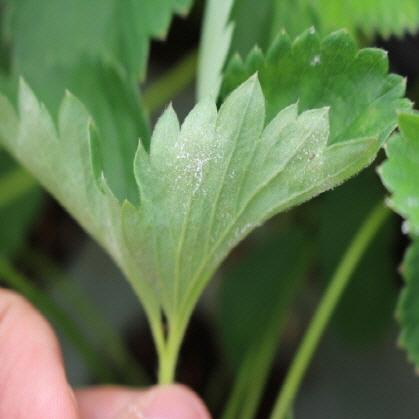Powdery Mildew Leaf: (118, 25, 415, 346)
